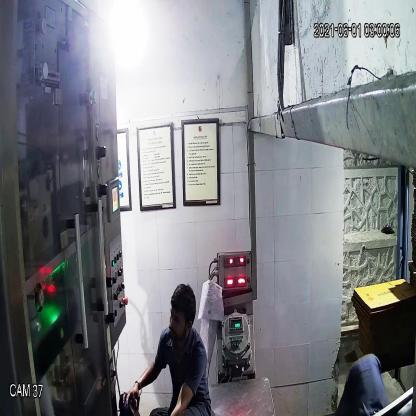no_goggles: (167, 306, 194, 332)
